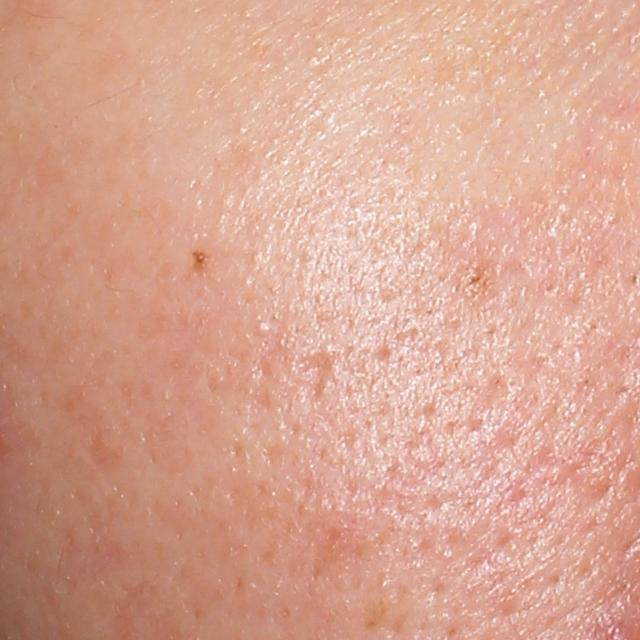atrophic_scar: (293, 343, 341, 403)
nevus: (190, 246, 214, 276)
